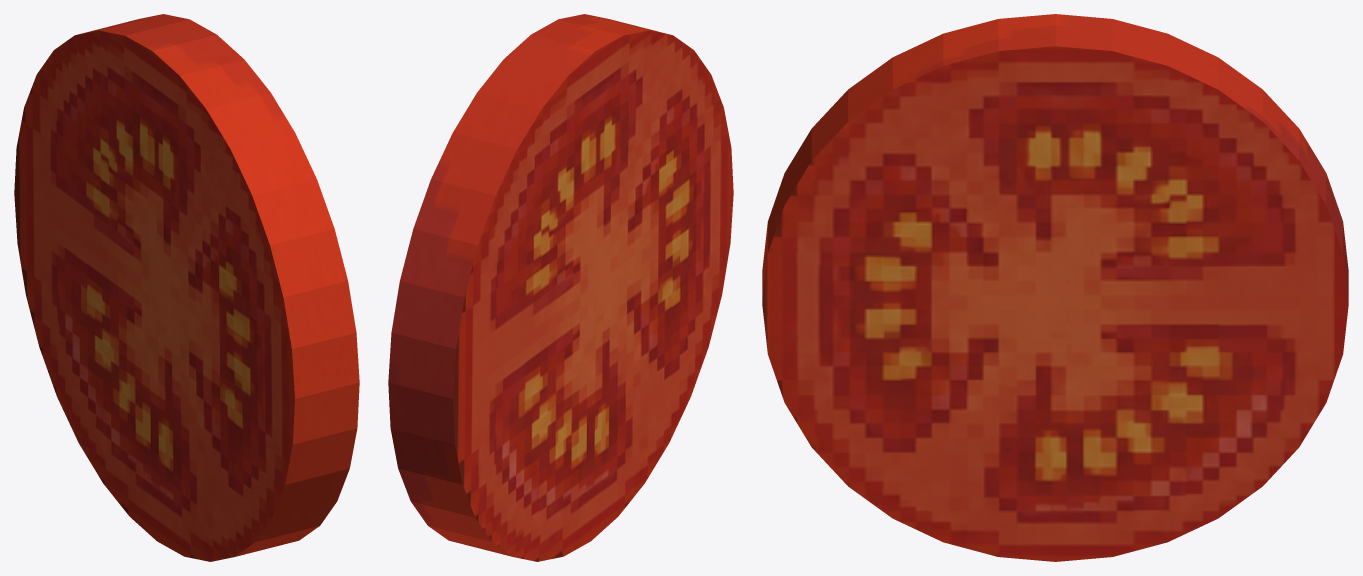
File: salet3.fbx
3 renders of one model, left to right at view 1: azimuth 30°, elevation 25°; view 2: azimuth 150°, elevation 25°; view 3: azimuth 270°, elevation 25°, orthographic. The views are drawn at different scales.
Parts seen in each view (by area): view 1: Cylinder; view 2: Cylinder; view 3: Cylinder.
Boxes of the visible parts, x1,y1,x2,y2 form: Cylinder: [14, 14, 359, 561]; Cylinder: [388, 14, 733, 561]; Cylinder: [762, 14, 1348, 561].
Size of the model in its own units: 5.1 by 34.59 by 35.77.
Materials: 1 (1 with a texture image).
